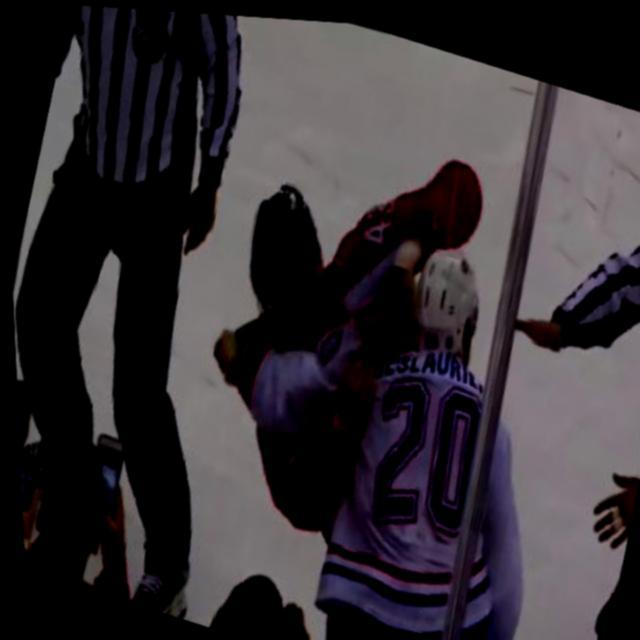fight: (128, 85, 550, 640)
